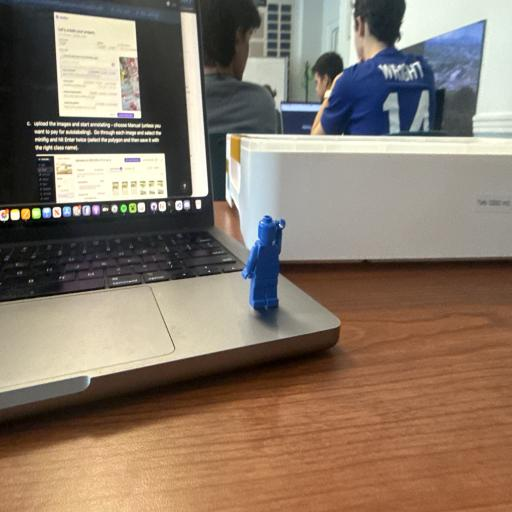Minifig: (242, 215, 285, 308)
